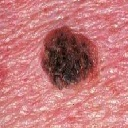Melanoma: (42, 26, 100, 89)
